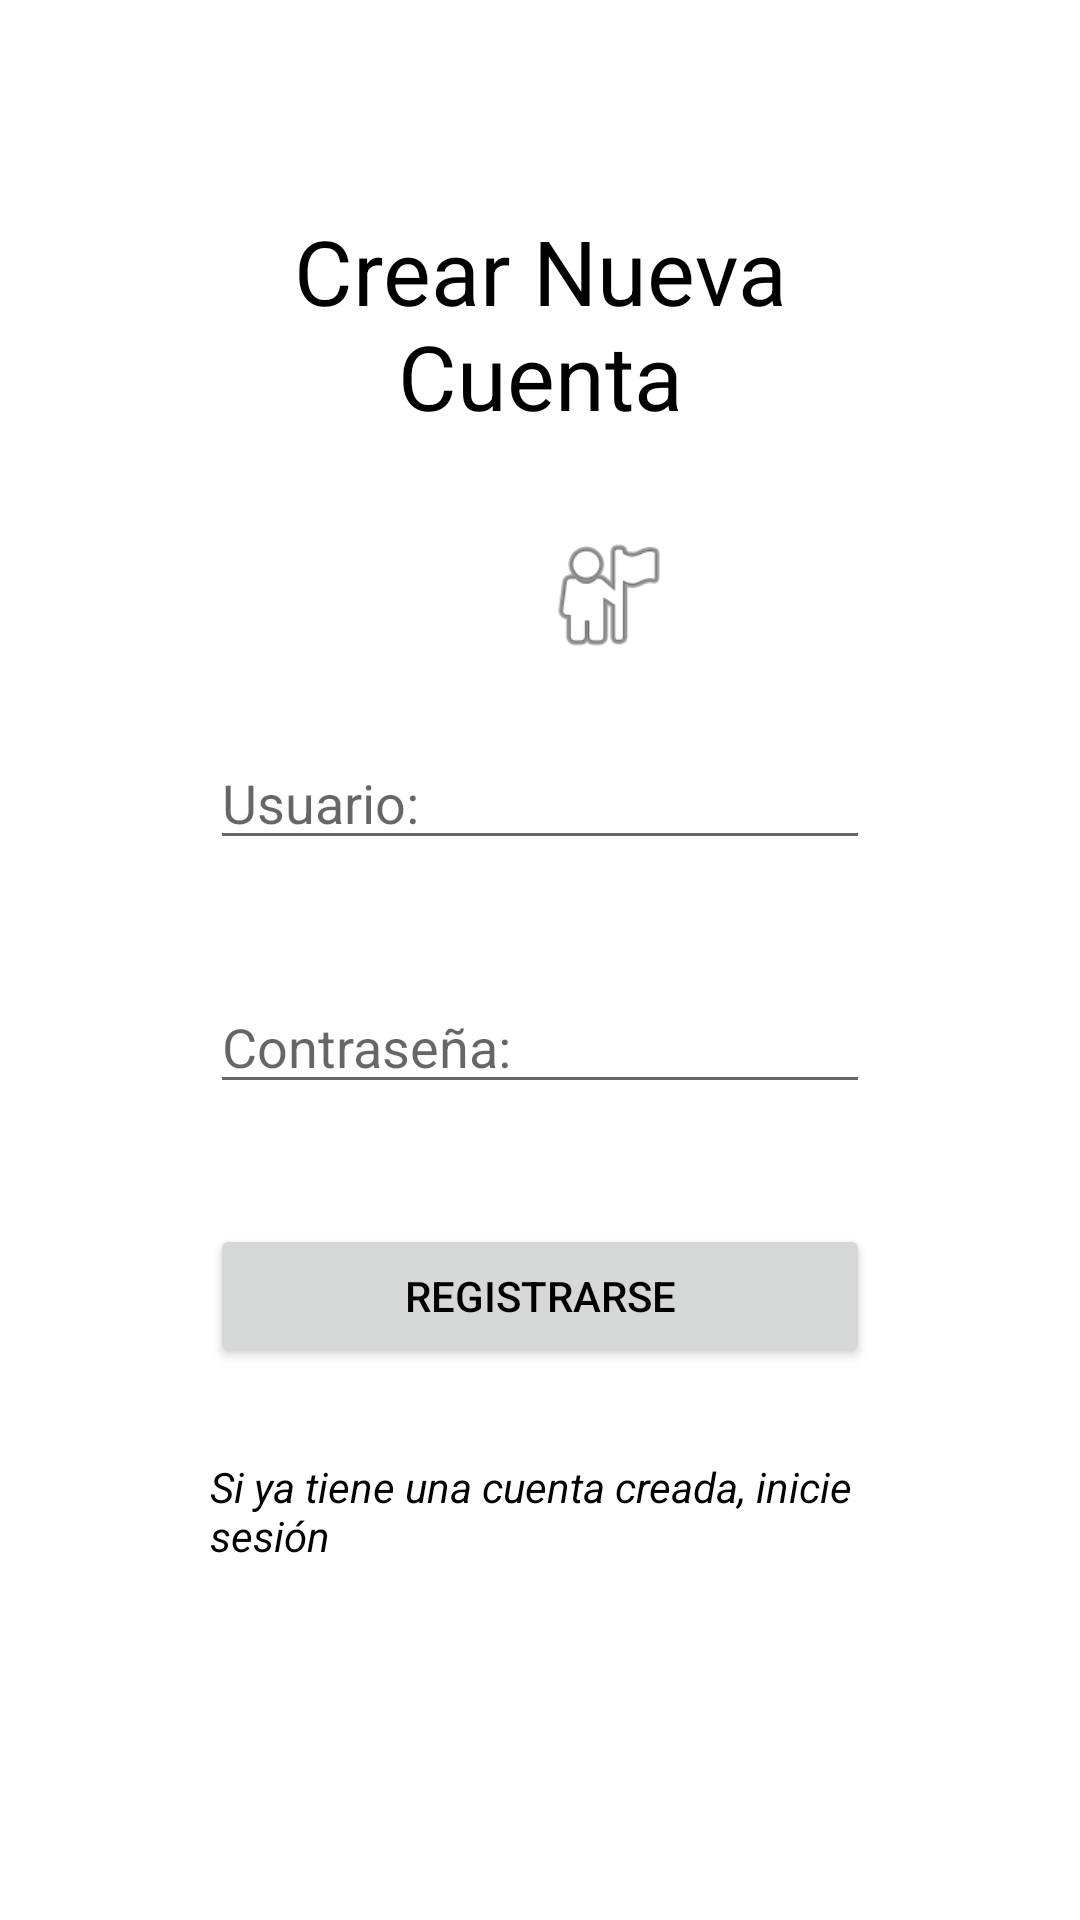

Locate icon controls on the screen. Image size 1080×1920, boxes as (left=x1, top=y1, right=x2, bottom=y2).
myplaces: (left=558, top=544, right=660, bottom=646)
